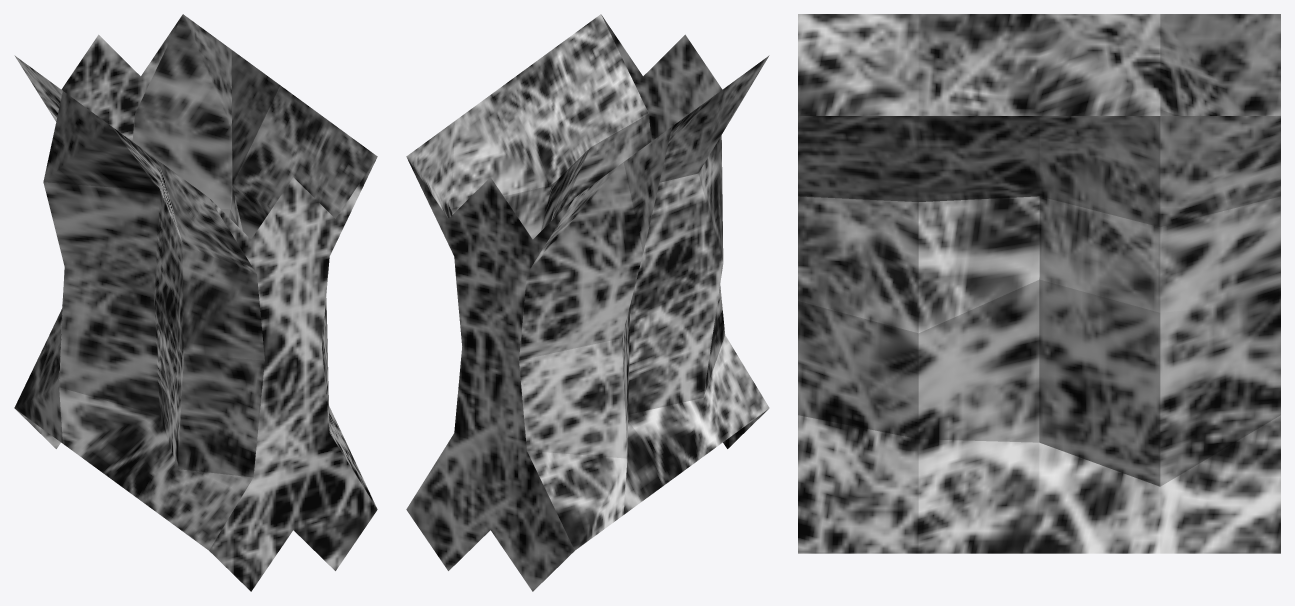
Rendered from Web.fbx.
3 views of the same model, side by side, from view 1: azimuth 30°, elevation 25°; view 2: azimuth 150°, elevation 25°; view 3: azimuth 270°, elevation 25° (orthographic). The views are drawn at different scales.
Parts seen in each view (by area): view 1: Cube; view 2: Cube; view 3: Cube.
Boxes of the visible parts, x1,y1,x2,y2 form: Cube: (14,14,377,591); Cube: (406,14,769,591); Cube: (798,14,1280,553).
Size of the model in its own units: 56.69 by 115 by 100.
